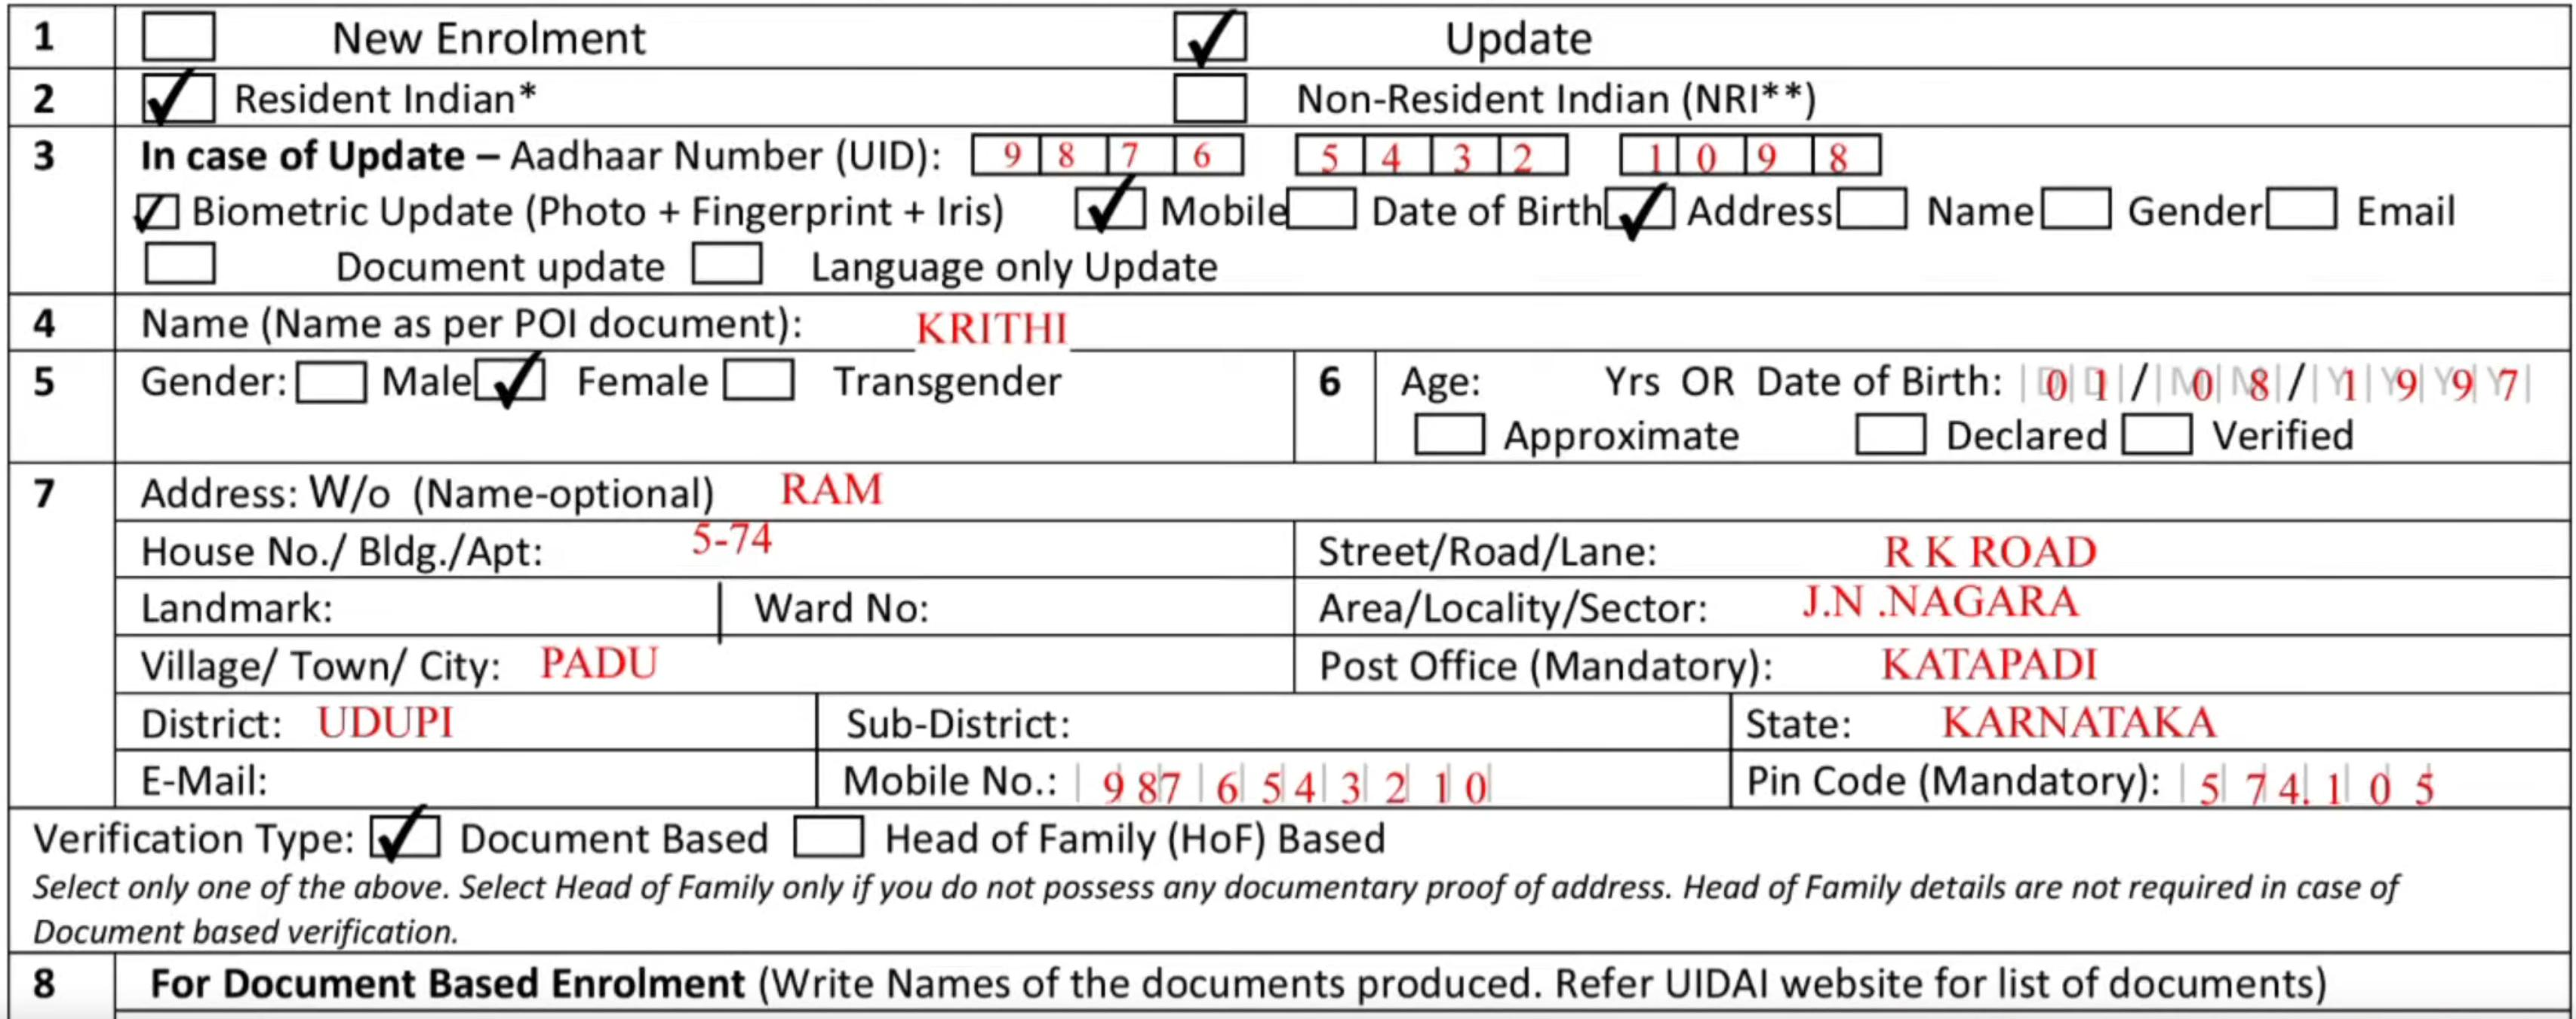checked: (139, 69, 223, 131), (1169, 8, 1250, 69), (469, 350, 551, 407), (365, 809, 445, 863), (1067, 182, 1148, 235), (1600, 183, 1680, 235), (131, 190, 184, 232)
unchecked: (717, 352, 801, 410), (140, 237, 227, 291), (1173, 69, 1253, 126), (290, 356, 371, 413), (2261, 180, 2342, 237), (2033, 182, 2116, 237), (1852, 407, 1932, 463), (137, 11, 222, 63), (690, 235, 767, 292), (790, 812, 871, 867), (1406, 410, 1489, 463), (1279, 184, 1363, 235), (1833, 183, 1912, 235), (2120, 409, 2193, 457)
